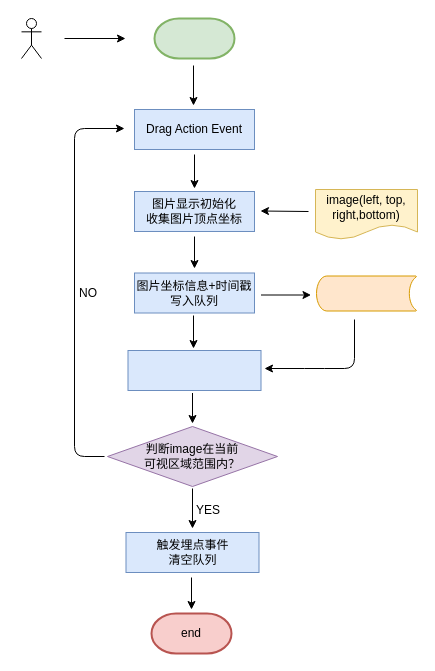
The diagram is 435 pixels wide and 671 high, and some of its shapes have lost their labels. Here are the shapes that lost their labels. From the top down, the centre of each, then its label:
[31,38]: Actor
[194,38]: start
[366,293]: push queue
[194,370]: 遍历队列 查找首次条件成立事件
